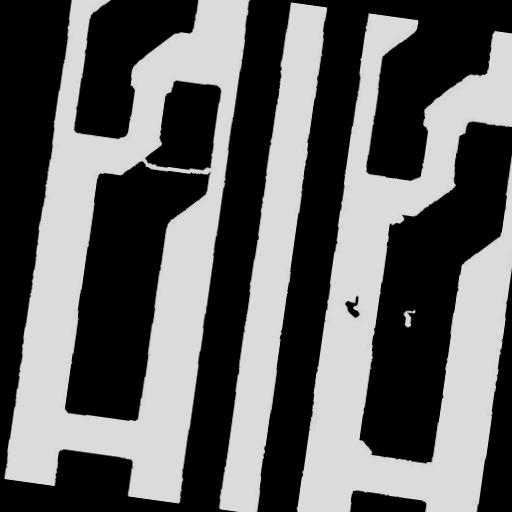copper: (335, 286, 370, 326)
mousebite: (342, 430, 382, 464), (376, 202, 414, 234)
open: (126, 146, 225, 188)
pin-hole: (393, 300, 424, 336)
